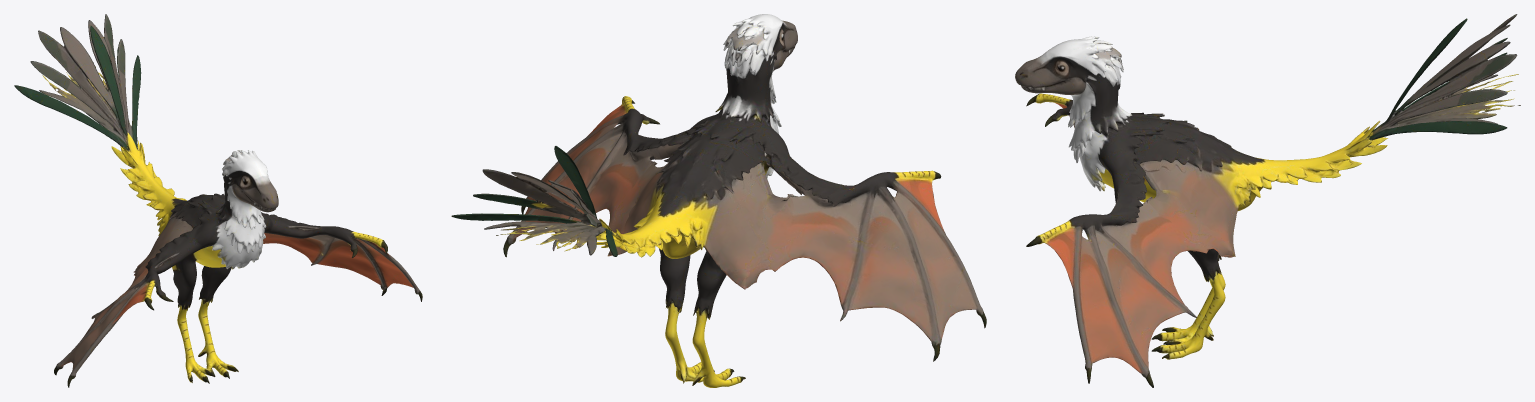
The model's file is Y-dino.glb.
3 renders of one model, left to right at view 1: azimuth 30°, elevation 25°; view 2: azimuth 150°, elevation 25°; view 3: azimuth 270°, elevation 25°, orthographic. The views are drawn at different scales.
Size of the model in its own units: 1.9 by 1.35 by 1.89.
1 material, 1 textured.
